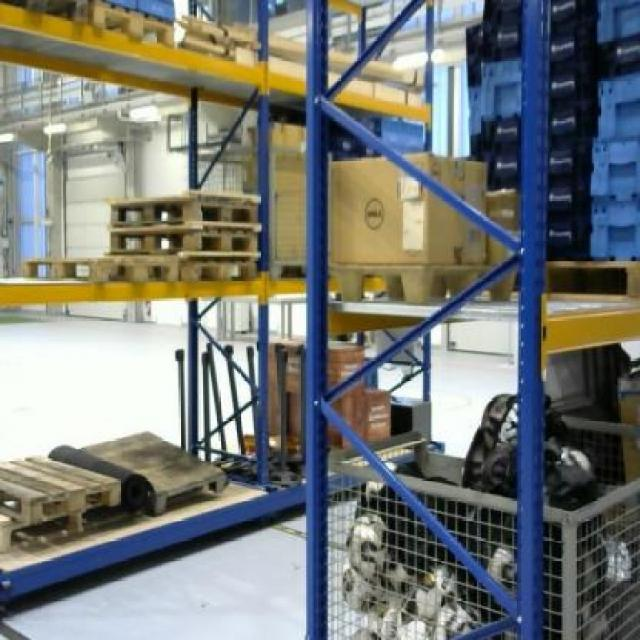box: (328, 151, 488, 264), (270, 121, 306, 262)
